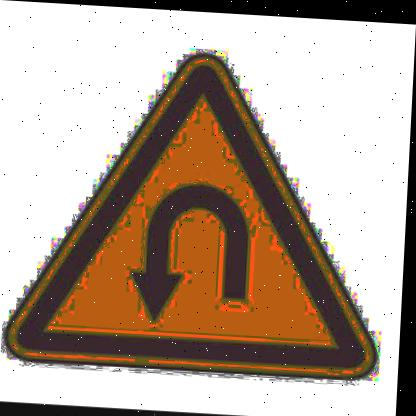U-turn: (8, 44, 398, 385)
